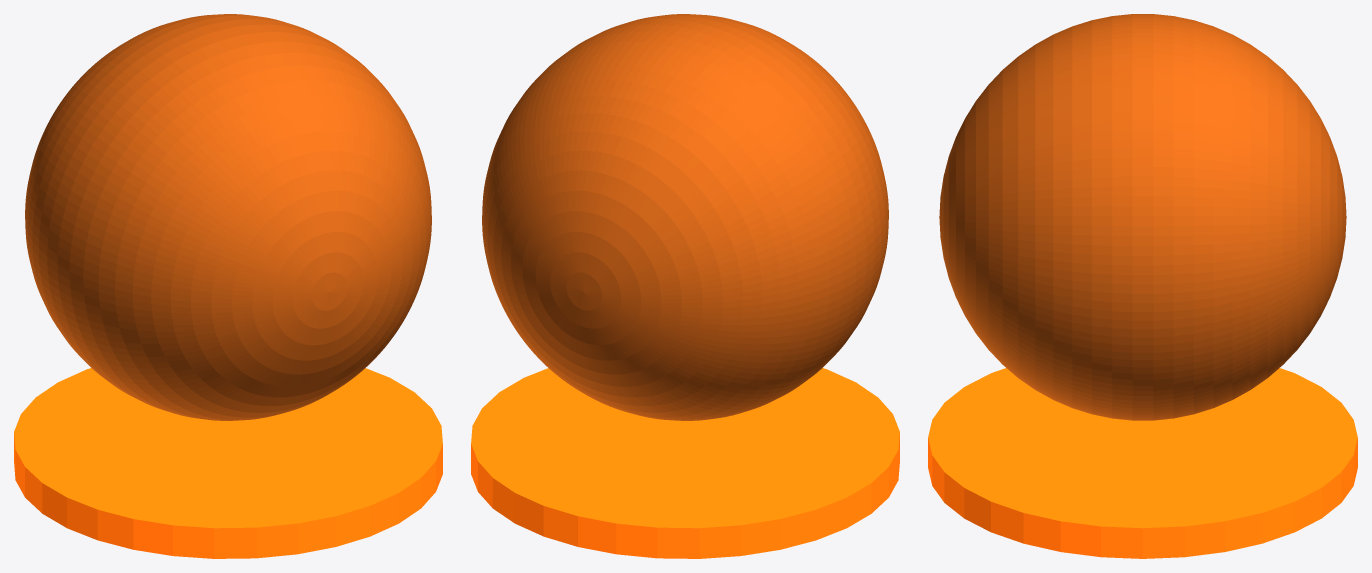
The model's file is fitness_medicine_ball.dae.
3 views of the same model, side by side, from view 1: azimuth 30°, elevation 25°; view 2: azimuth 150°, elevation 25°; view 3: azimuth 270°, elevation 25° (orthographic).
Visible parts, largest first — view 1: 02_17_Popular_Fitness_Medicine_Ball_part_01, 02_17_Popular_Fitness_Medicine_Ball_ROOT_base; view 2: 02_17_Popular_Fitness_Medicine_Ball_part_01, 02_17_Popular_Fitness_Medicine_Ball_ROOT_base; view 3: 02_17_Popular_Fitness_Medicine_Ball_part_01, 02_17_Popular_Fitness_Medicine_Ball_ROOT_base.
Part boxes in pixels (x1,y1,x2,y2): 02_17_Popular_Fitness_Medicine_Ball_part_01: (25,14,431,420); 02_17_Popular_Fitness_Medicine_Ball_ROOT_base: (14,368,442,558); 02_17_Popular_Fitness_Medicine_Ball_part_01: (482,14,888,420); 02_17_Popular_Fitness_Medicine_Ball_ROOT_base: (471,368,899,558); 02_17_Popular_Fitness_Medicine_Ball_part_01: (939,14,1346,420); 02_17_Popular_Fitness_Medicine_Ball_ROOT_base: (928,368,1357,558).
Bounding box in the file's own units: 0.76 × 0.8491 × 0.76.
